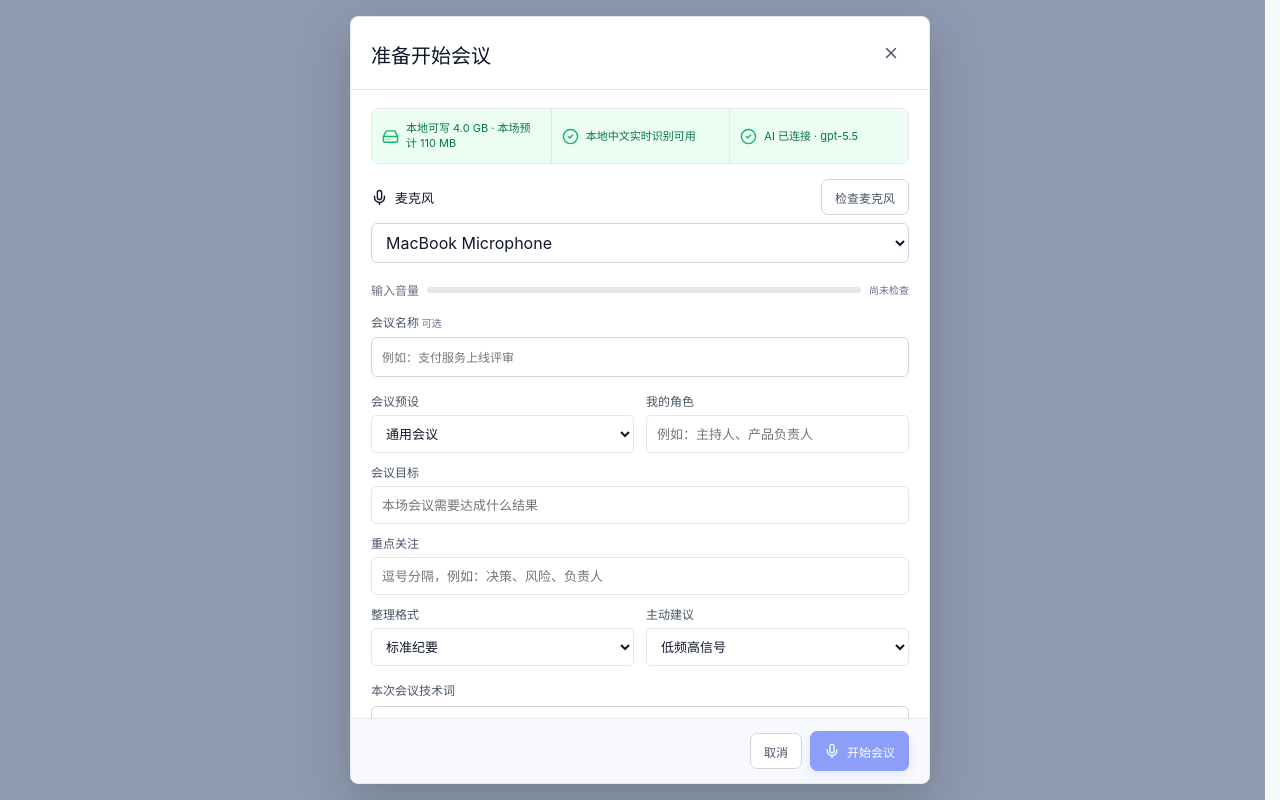
Test: MeetingPreflightDialog › shows a sampled RMS level and a muted warning when the browser input is silent
The width and height of the screenshot is (1280, 800).
Expected: the text "本地中文实时识别可用" is shown, [586,129,696,143]
Click the button "检查麦克风".
click(865, 197)  # box [821,179,909,215]
Wait 2600 ms
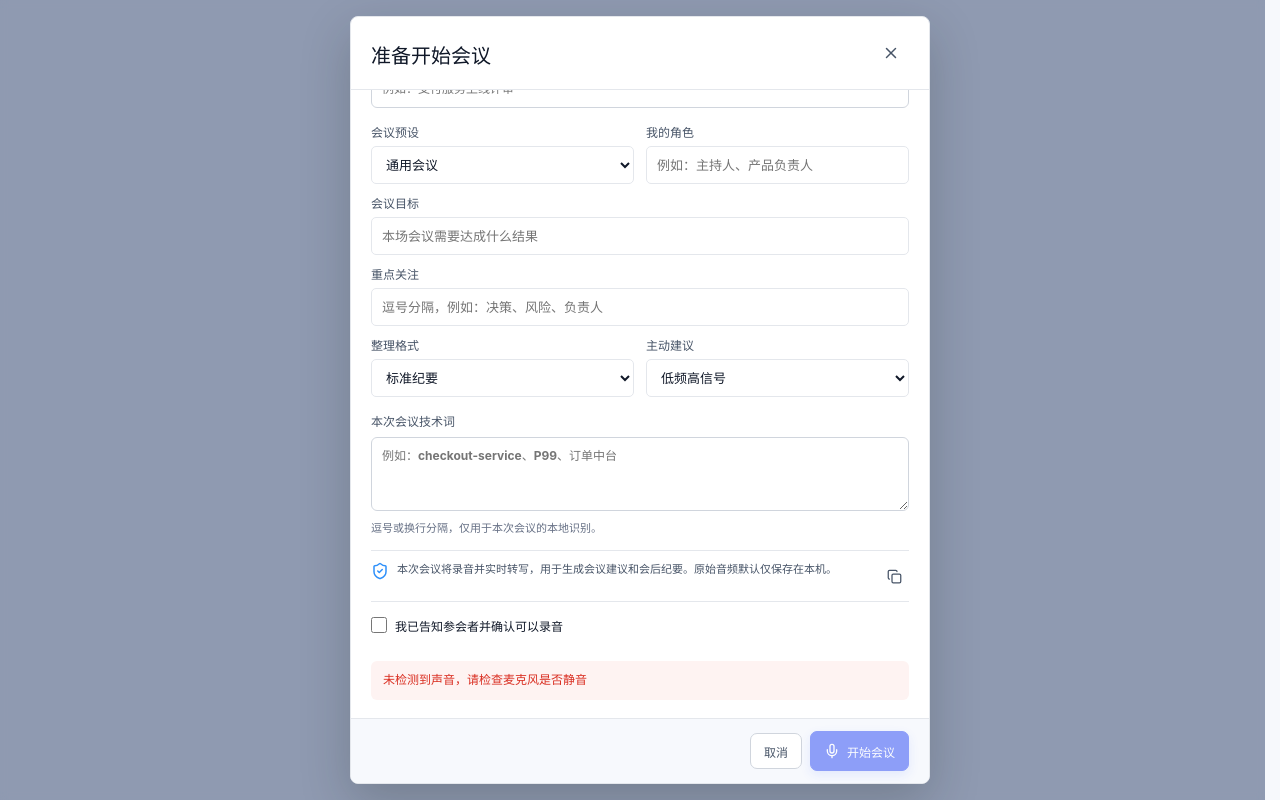
Expected: the message reads "未检测到声音，请检查麦克风是否静音", [383,672,587,687]
